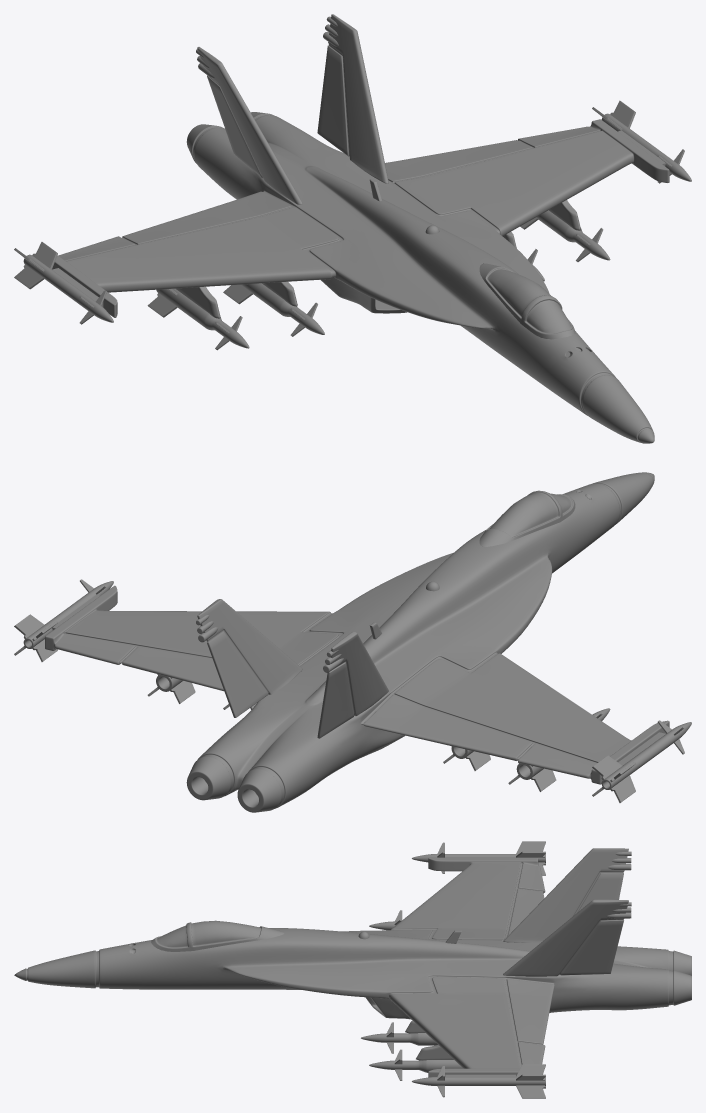
The model's file is player.obj.
3 renders of one model, top to bottom at view 1: azimuth 30°, elevation 25°; view 2: azimuth 150°, elevation 25°; view 3: azimuth 270°, elevation 25°, orthographic. The views are drawn at different scales.
Visible parts, largest first — view 1: 16013_Fighter_Jet-USA_v1; view 2: 16013_Fighter_Jet-USA_v1; view 3: 16013_Fighter_Jet-USA_v1.
Boxes of the visible parts, x1,y1,x2,y2 form: 16013_Fighter_Jet-USA_v1: (14, 14, 691, 443); 16013_Fighter_Jet-USA_v1: (14, 472, 691, 812); 16013_Fighter_Jet-USA_v1: (14, 841, 691, 1098).
Size of the model in its own units: 6.14 by 1.65 by 7.51.
Materials: 1 (1 with a texture image).
